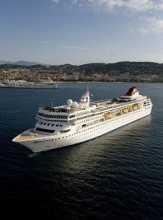youlun: (11, 84, 154, 151)
